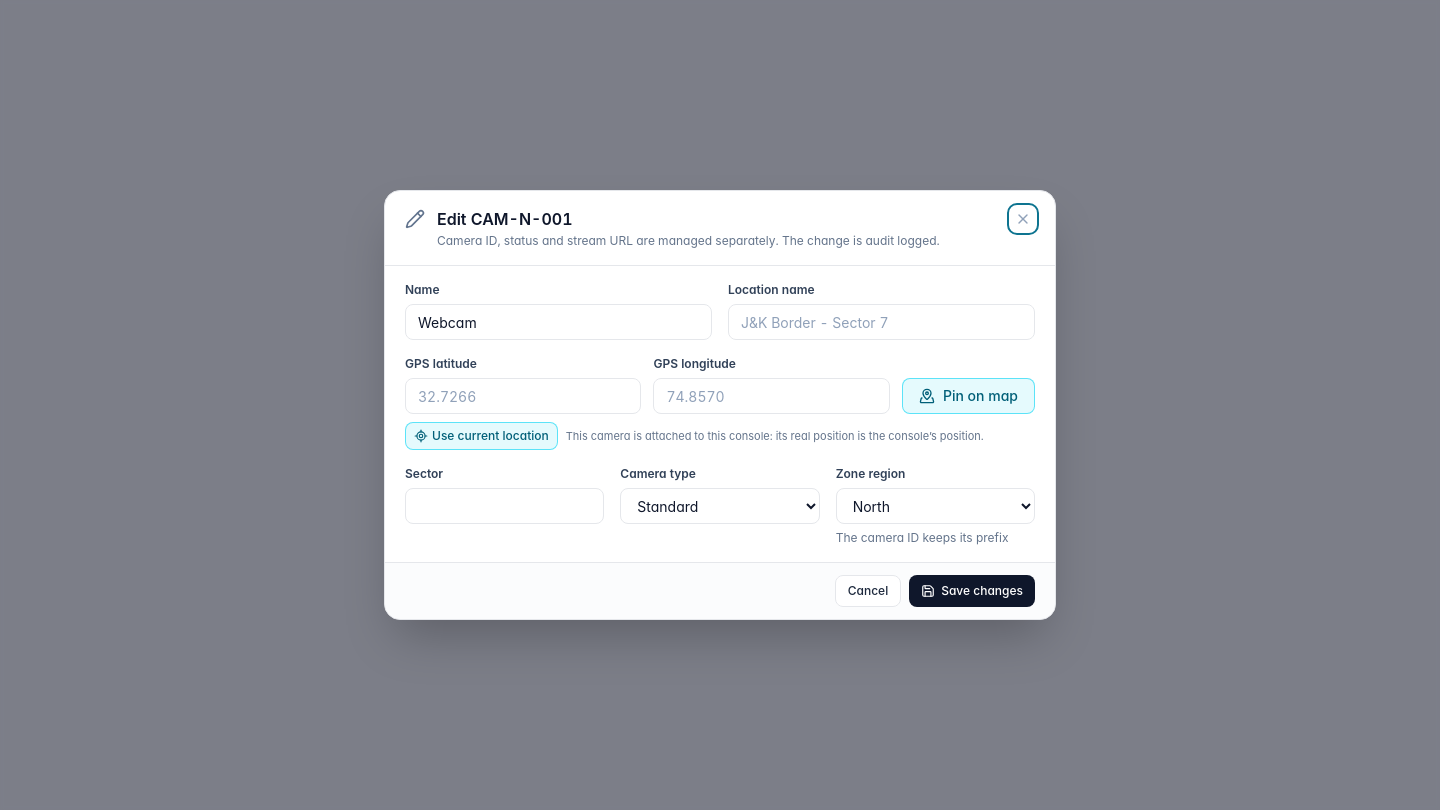
Scenario: CameraEditDialog › refuses half a GPS pair
Type "32.7" into the field labelled "GPS latitude" at (523, 396), box [405,378,642,414]
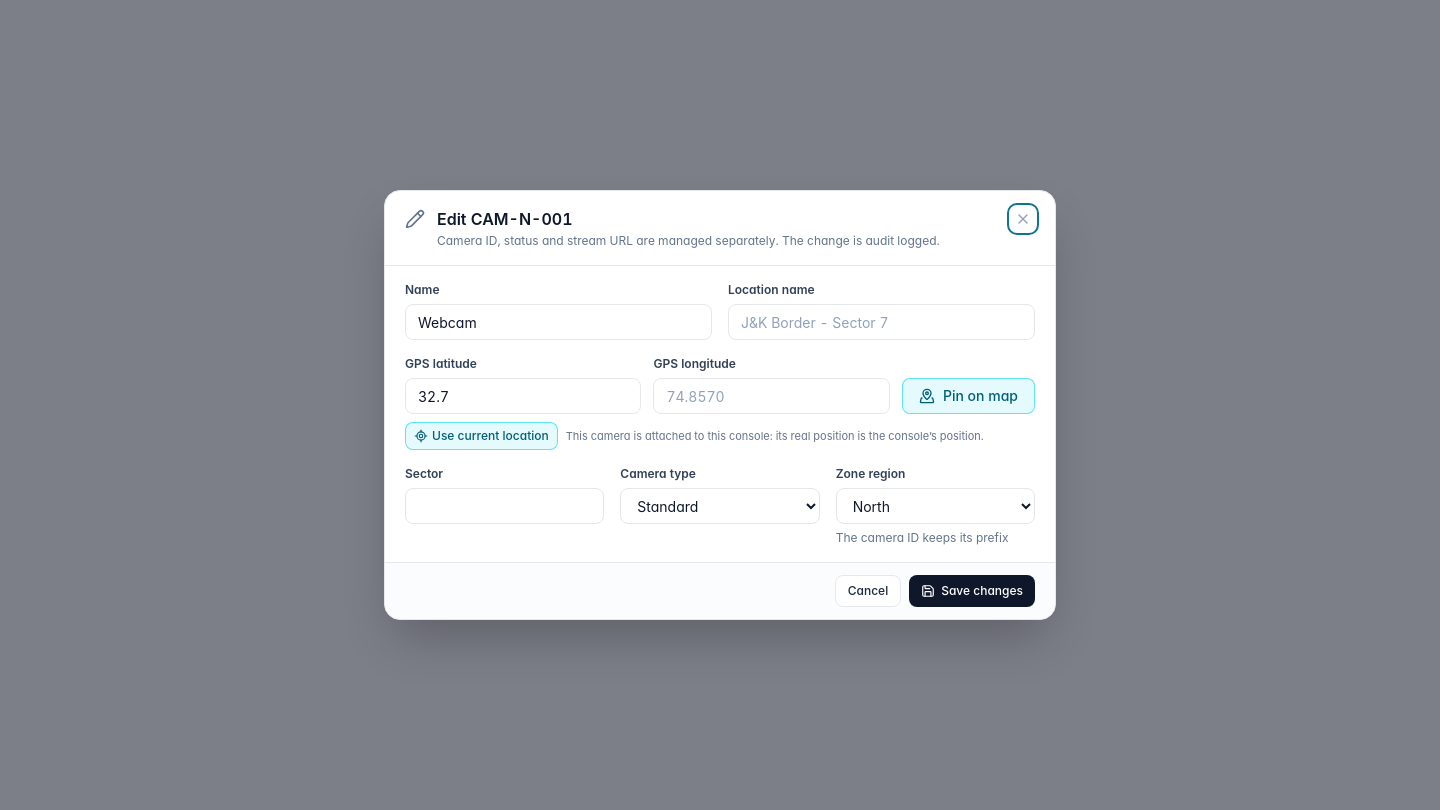
Click the button with test id "save-camera" at (972, 591), box [909,575,1035,607]
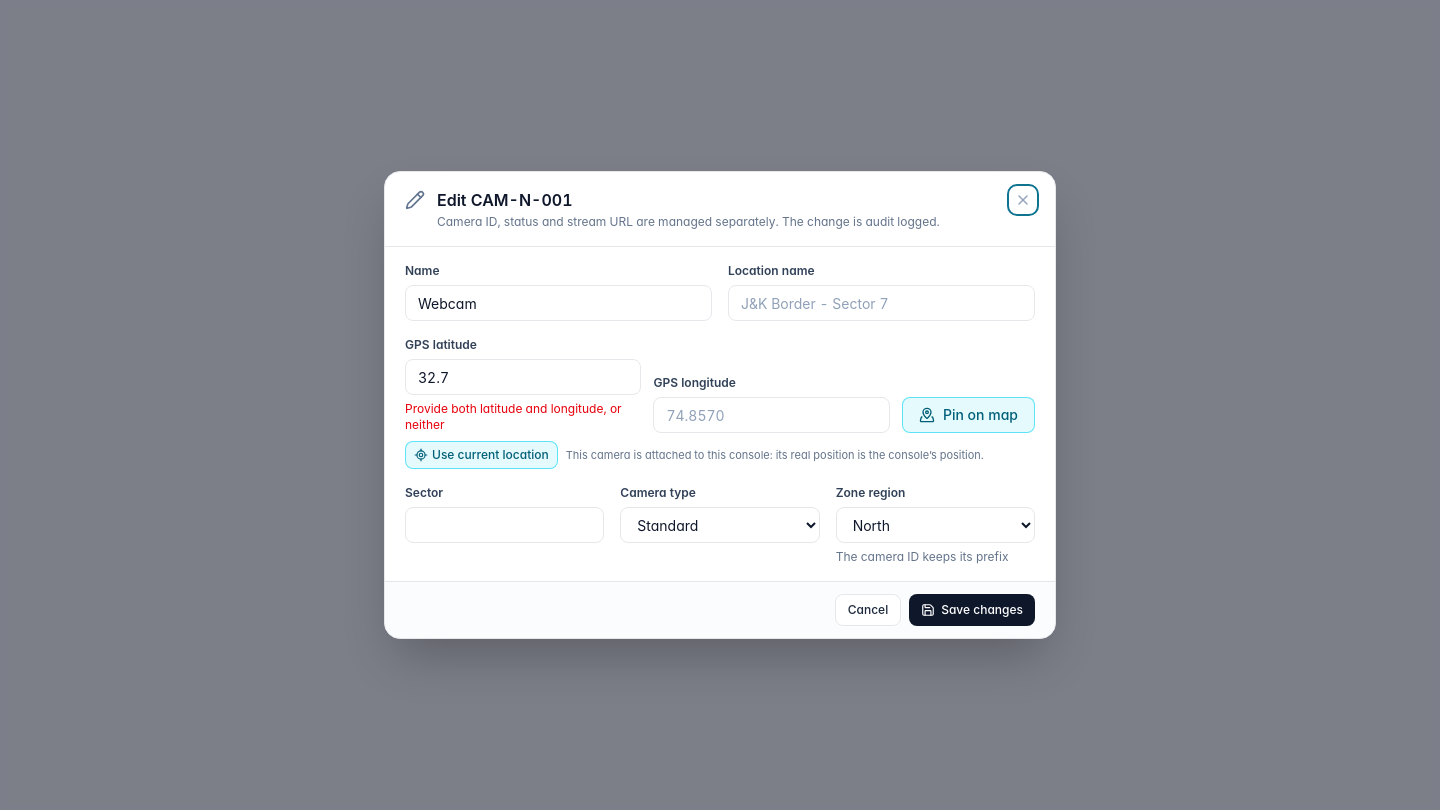
Expected: the text "Provide both latitude and longitude, or neither" is shown, [405,401,642,433]
